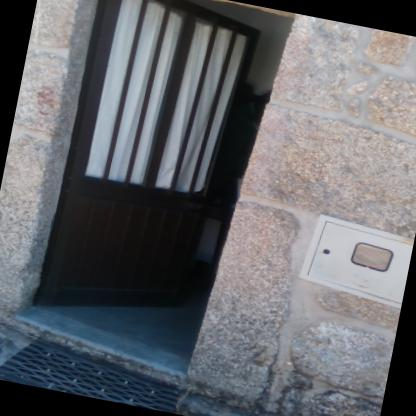semi: (11, 0, 304, 401)
